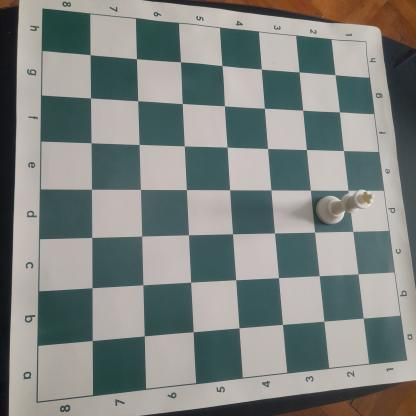white-king: (314, 188, 375, 226)
